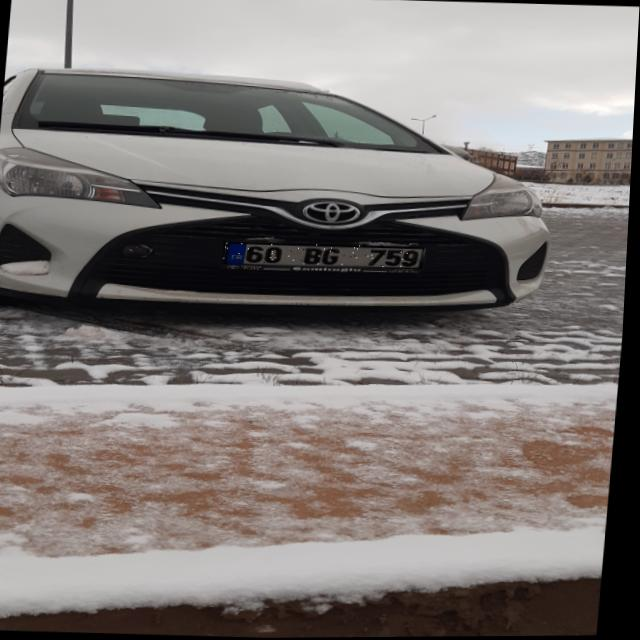license_plate: (223, 241, 427, 271)
